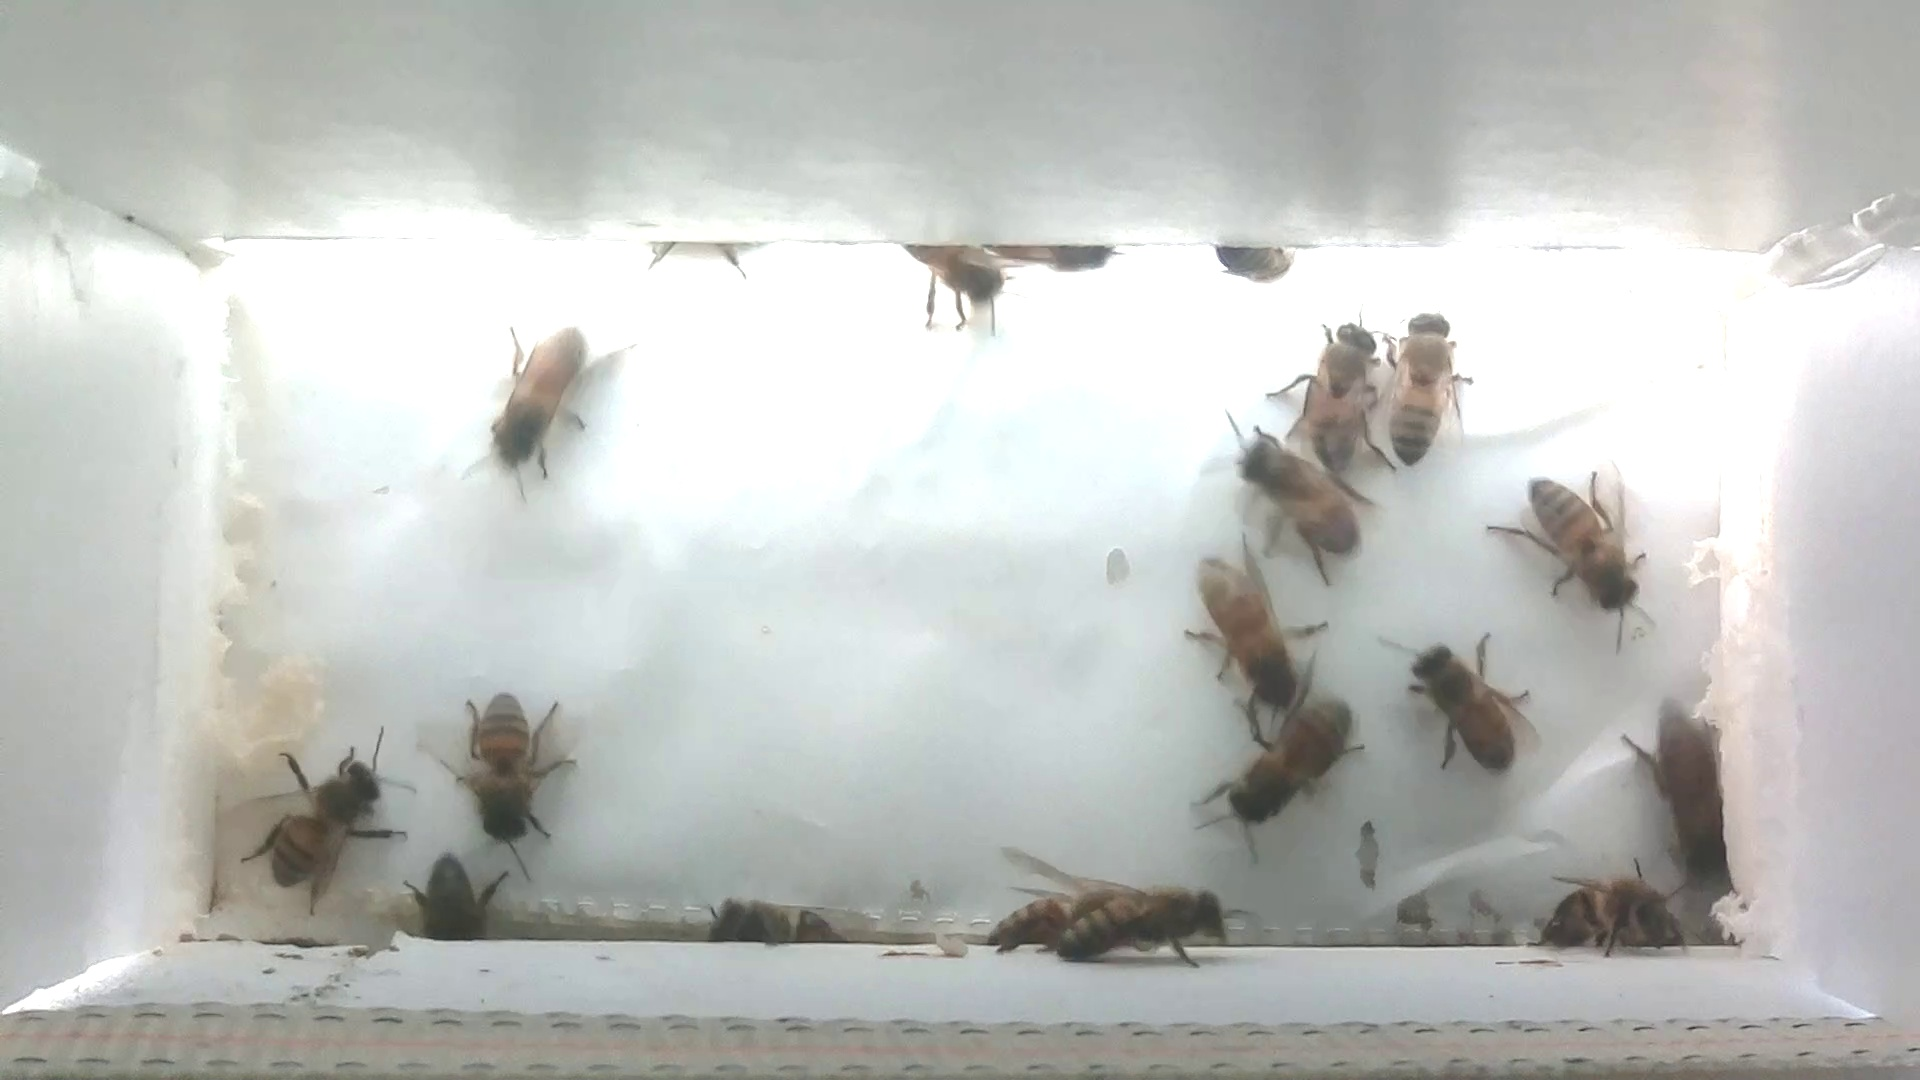bee: (1478, 454, 1671, 646), (1201, 405, 1398, 589), (216, 717, 414, 899), (1201, 661, 1375, 845), (1164, 538, 1328, 729), (1367, 608, 1539, 790), (459, 315, 629, 495), (1618, 684, 1760, 890), (434, 680, 583, 856), (1269, 298, 1396, 484), (1050, 874, 1255, 978), (1379, 295, 1484, 479), (967, 858, 1139, 960), (1535, 858, 1687, 969), (889, 237, 1014, 345), (394, 845, 514, 956), (985, 229, 1125, 286), (695, 887, 800, 957), (1208, 237, 1300, 295)
